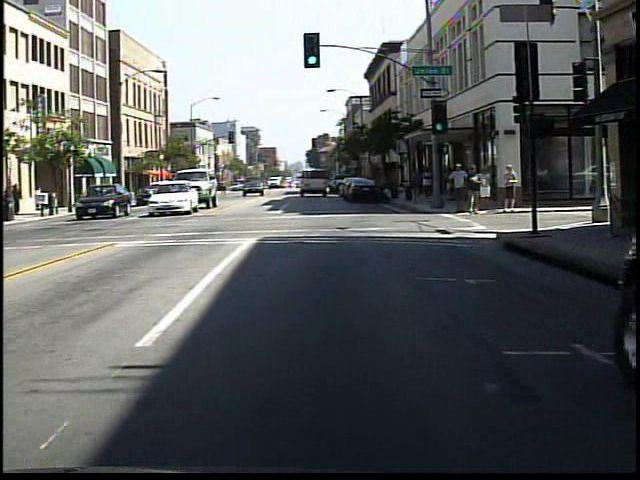person: (499, 160, 520, 216), (447, 161, 468, 215), (464, 164, 485, 218), (478, 164, 495, 214), (417, 163, 436, 205), (216, 174, 233, 202)
